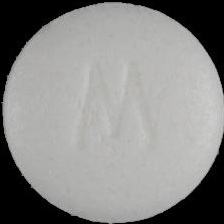64679-927: (0, 0, 224, 224)
